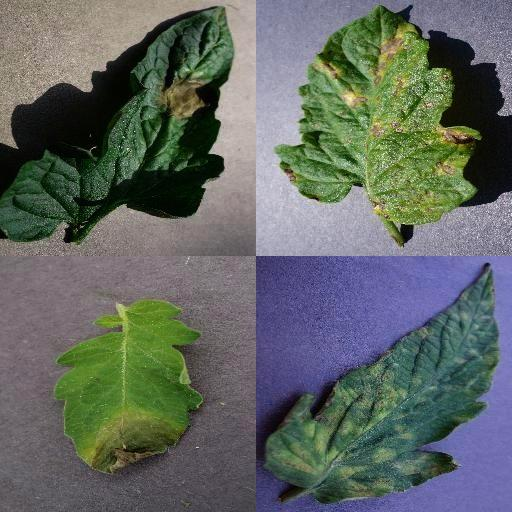Late Blight: (0, 6, 235, 242), (55, 295, 203, 477)
Leaf Mold: (266, 264, 499, 504)
Septoria: (276, 2, 480, 226)
